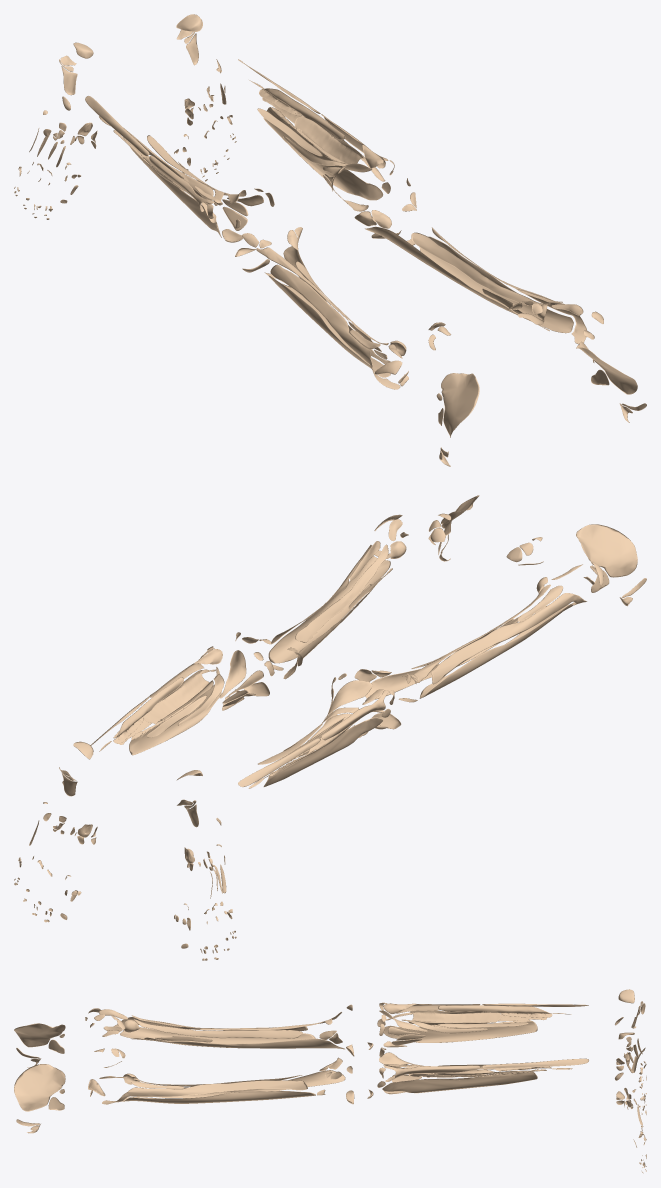
Rendered from lowerlimb__insertions.c98c9abd1c.glb.
The picture shows the model from 3 angles, top to bottom: view 1: azimuth 30°, elevation 25°; view 2: azimuth 150°, elevation 25°; view 3: azimuth 270°, elevation 25°; orthographic projection. The views are drawn at different scales.
Visible parts, largest first — view 1: Vastus lateralis muscle.or, Vastus intermedius muscle.ol, Tibialis anterior muscle.ol, Gluteus minimus muscle.or, Adductor magnus.el, Tibialis posterior muscle.ol, Vastus intermedius muscle.or, Vastus medialis muscle.ol, Flexor hallucis longus.ol, Vastus lateralis muscle.ol, Gluteus minimus muscle.ol, Tibialis anterior muscle.or (+1 smaller); view 2: Gluteus minimus muscle.or, Vastus lateralis muscle.or, Vastus intermedius muscle.ol, Tibialis anterior muscle.or, Tibialis posterior muscle.ol, Adductor magnus.el, Vastus intermedius muscle.or, Tibialis anterior muscle.ol, Flexor hallucis longus.ol, Vastus medialis muscle.or, Fibularis brevis muscle.or, Popliteus muscle.er (+1 smaller); view 3: Vastus lateralis muscle.ol, Tibialis anterior muscle.ol, Gluteus minimus muscle.ol, Tibialis anterior muscle.or, Vastus intermedius muscle.ol, Adductor magnus.er, Vastus intermedius muscle.or, Tibialis posterior muscle.or, Vastus medialis muscle.or, Flexor hallucis longus.or, Gluteus minimus muscle.or, Vastus medialis muscle.ol (+11 smaller).
Part boxes in pixels (x1,y1,x2,y2): Vastus lateralis muscle.or: (270,264,400,389); Vastus intermedius muscle.ol: (419,236,573,333); Tibialis anterior muscle.ol: (263,107,383,200); Gluteus minimus muscle.or: (441,373,479,437); Adductor magnus.el: (354,211,550,305); Tibialis posterior muscle.ol: (294,115,363,164); Vastus intermedius muscle.or: (268,275,390,377); Vastus medialis muscle.ol: (365,226,549,331); Flexor hallucis longus.ol: (259,88,345,139); Vastus lateralis muscle.ol: (431,227,587,344); Gluteus minimus muscle.ol: (576,341,637,394); Tibialis anterior muscle.or: (130,147,221,237); Gluteus minimus muscle.or: (576,524,637,577); Vastus lateralis muscle.or: (431,593,586,684); Vastus intermedius muscle.ol: (268,556,390,663); Tibialis anterior muscle.or: (263,717,382,786); Tibialis posterior muscle.ol: (143,670,213,723); Adductor magnus.el: (295,544,388,666); Vastus intermedius muscle.or: (419,603,573,698); Tibialis anterior muscle.ol: (129,684,221,755); Flexor hallucis longus.ol: (113,677,183,743); Vastus medialis muscle.or: (365,606,546,699); Fibularis brevis muscle.or: (238,738,320,786); Popliteus muscle.er: (323,680,372,720); Vastus lateralis muscle.ol: (102,1080,307,1104); Tibialis anterior muscle.ol: (382,1072,537,1093); Gluteus minimus muscle.ol: (14,1064,65,1111); Tibialis anterior muscle.or: (383,1020,537,1042); Vastus intermedius muscle.ol: (121,1091,315,1103); Adductor magnus.er: (133,1019,342,1043); Vastus intermedius muscle.or: (120,1027,315,1048); Tibialis posterior muscle.or: (408,1010,501,1025); Vastus medialis muscle.or: (130,1038,344,1049); Flexor hallucis longus.or: (438,1005,552,1017); Gluteus minimus muscle.or: (14,1023,65,1047); Vastus medialis muscle.ol: (156,1070,345,1098).
Bounding box in the file's own units: 285 × 213 × 928.
